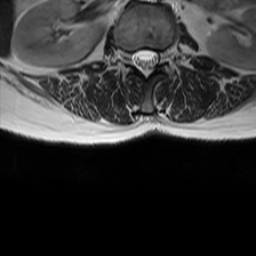CCS_normal: (139, 40, 150, 84)
LFS_normal: (158, 46, 168, 72)
LLS_normal: (150, 45, 160, 73)
RFS_normal: (122, 45, 132, 71)
RLS_normal: (131, 45, 140, 72)
